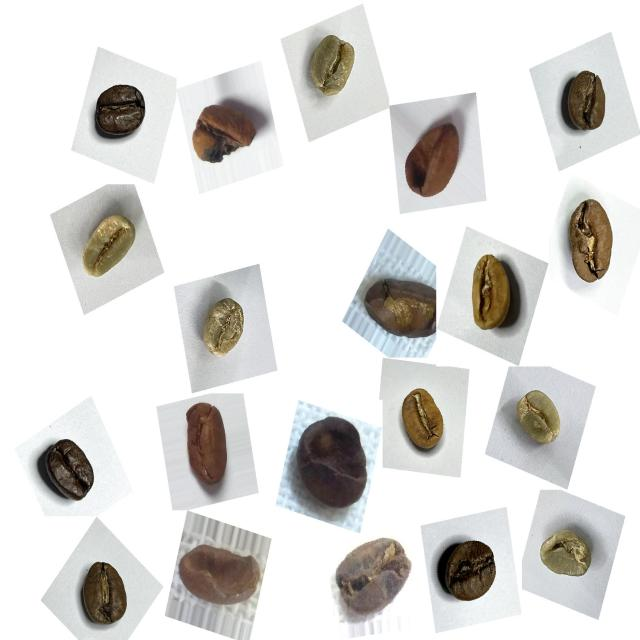bad: (290, 406, 378, 525), (396, 100, 472, 210), (179, 528, 265, 618), (182, 85, 267, 176), (331, 526, 415, 618), (358, 263, 445, 349), (176, 391, 240, 498)
dark: (34, 428, 107, 515), (67, 547, 138, 636), (87, 71, 159, 156)
green: (70, 196, 149, 290), (504, 381, 574, 463), (526, 517, 602, 592), (302, 24, 367, 110), (192, 287, 257, 368)
light: (554, 186, 627, 294), (453, 242, 531, 342), (387, 374, 459, 466)
medium: (434, 525, 508, 616), (554, 60, 620, 144)
